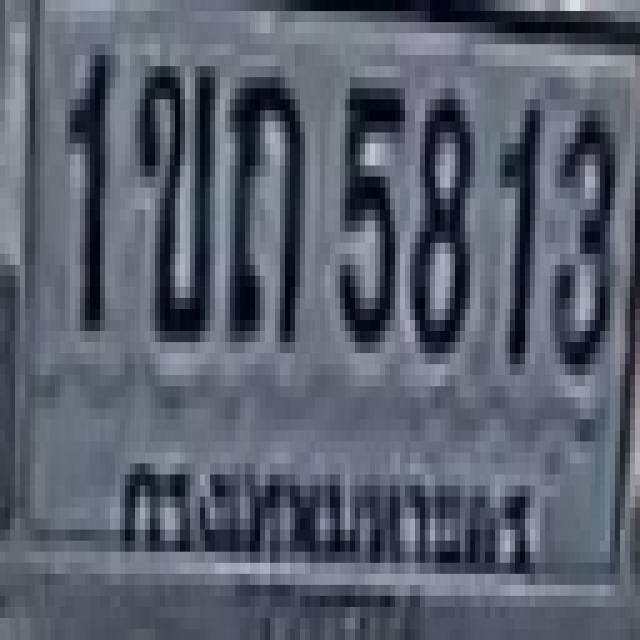1: (65, 33, 111, 331), (498, 94, 538, 371)
3: (548, 99, 616, 374)
5: (335, 77, 402, 349)
8: (407, 77, 473, 360)
A02: (135, 56, 213, 346)
A22: (225, 66, 304, 349)
BKK: (106, 438, 537, 596)
